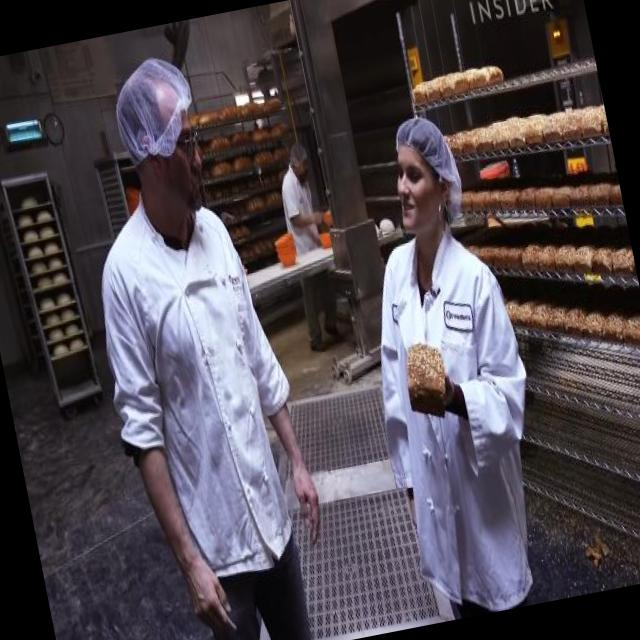hairnet: (108, 52, 192, 153), (394, 110, 467, 191), (286, 140, 309, 170)
